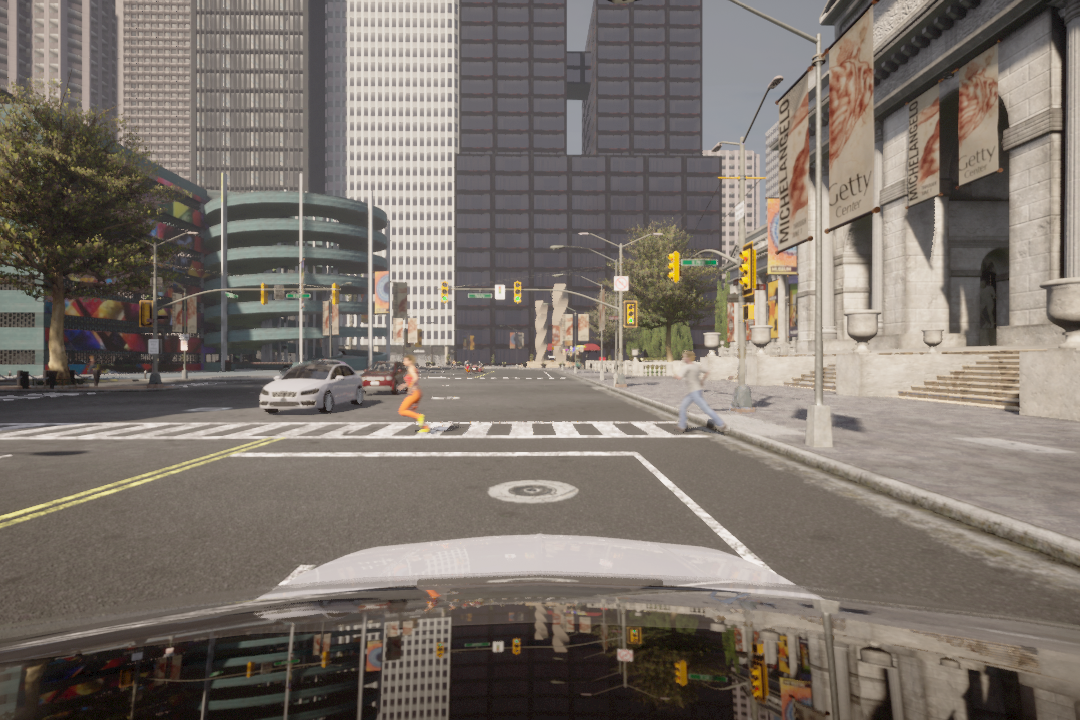TrafficLight: (738, 244, 759, 296), (667, 250, 680, 287), (625, 301, 637, 328), (511, 281, 525, 304), (441, 280, 450, 307)
TrafficSign: (613, 276, 630, 292)
walkside: (6, 418, 747, 448)
